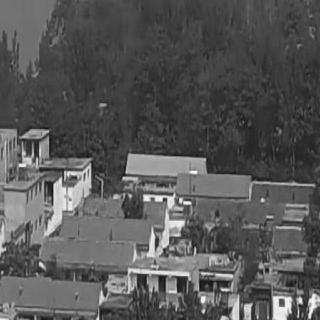other: (195, 177, 319, 239)
